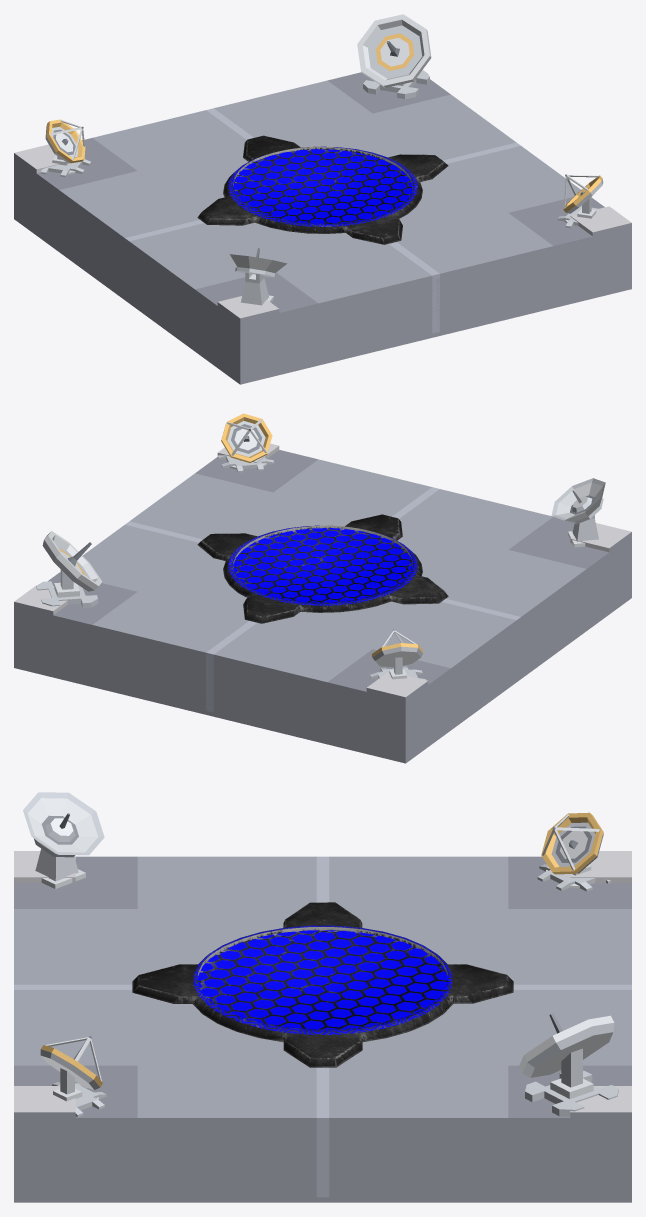
File: teleport.glb
The picture shows the model from 3 angles, top to bottom: view 1: azimuth 30°, elevation 25°; view 2: azimuth 150°, elevation 25°; view 3: azimuth 270°, elevation 25°; orthographic projection. The views are drawn at different scales.
Visible parts, largest first — view 1: light_curved.005; view 2: light_curved.005; view 3: light_curved.005.
Boxes of the visible parts, x1,y1,x2,y2 form: light_curved.005: (14, 14, 631, 384); light_curved.005: (14, 413, 631, 763); light_curved.005: (14, 792, 631, 1202).
Size of the model in its own units: 12 by 3.67 by 12.
Materials: 19 (2 with a texture image).
